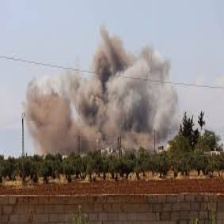smoke: (25, 29, 179, 160)
